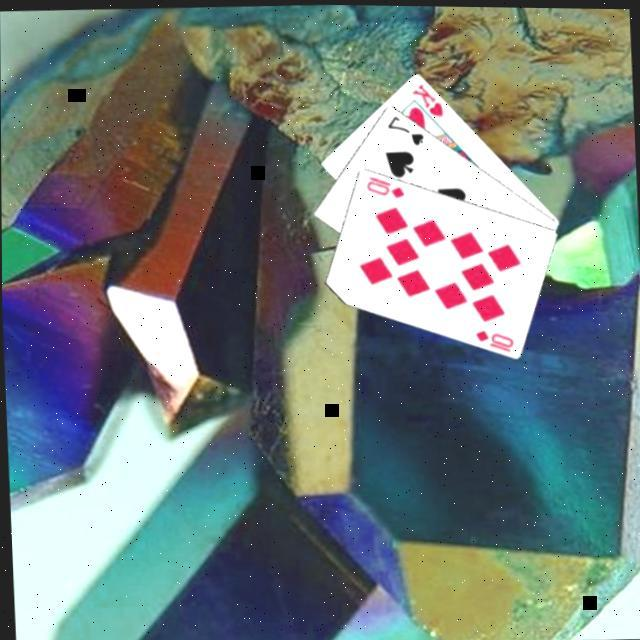10D: (470, 324, 515, 356), (361, 172, 405, 202)
7S: (382, 112, 425, 150)
KH: (408, 80, 444, 120)
